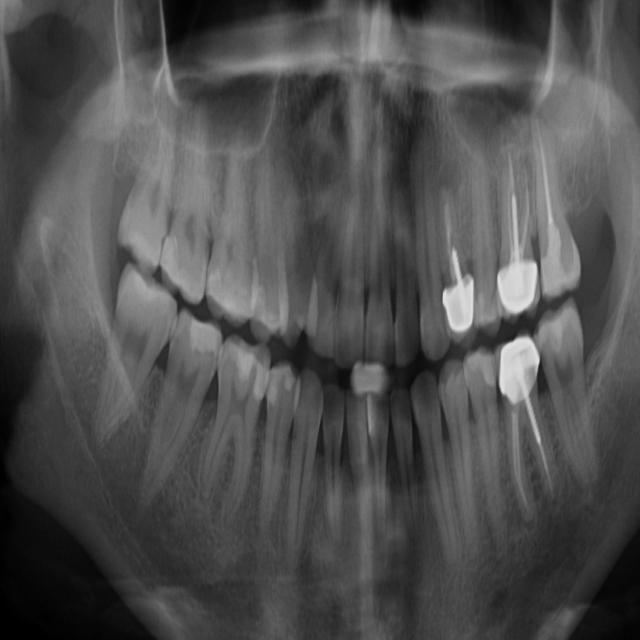kanal-tedavisi: (499, 382, 561, 514), (523, 124, 577, 256), (489, 126, 537, 258), (432, 179, 475, 292)
kaplama: (493, 253, 546, 318), (494, 339, 546, 401), (434, 285, 480, 340)
